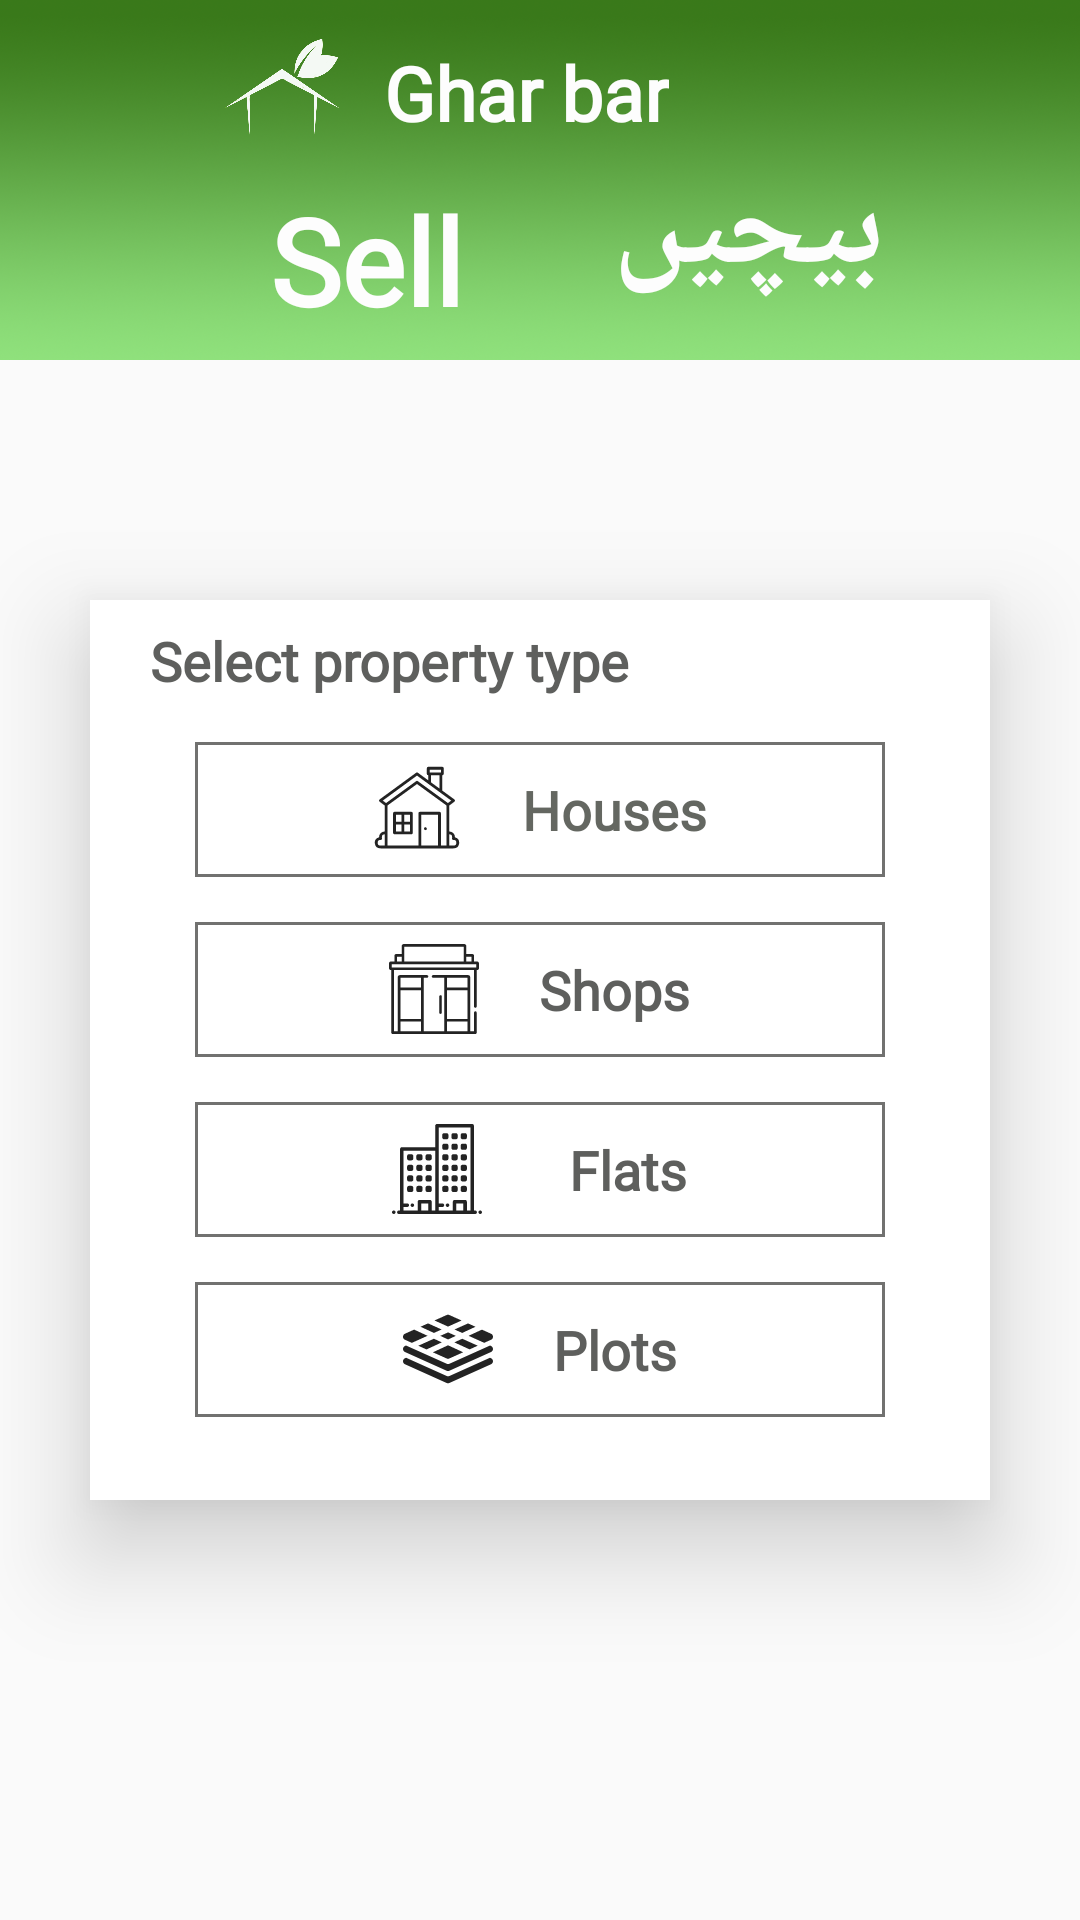

Icon click points for this 1080w x 1920h phone screenshot, format (x,y):
appartment: (437,1169)
home: (417,807)
land: (448,1349)
